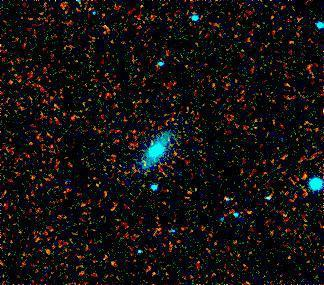star: (89, 12, 119, 42)
